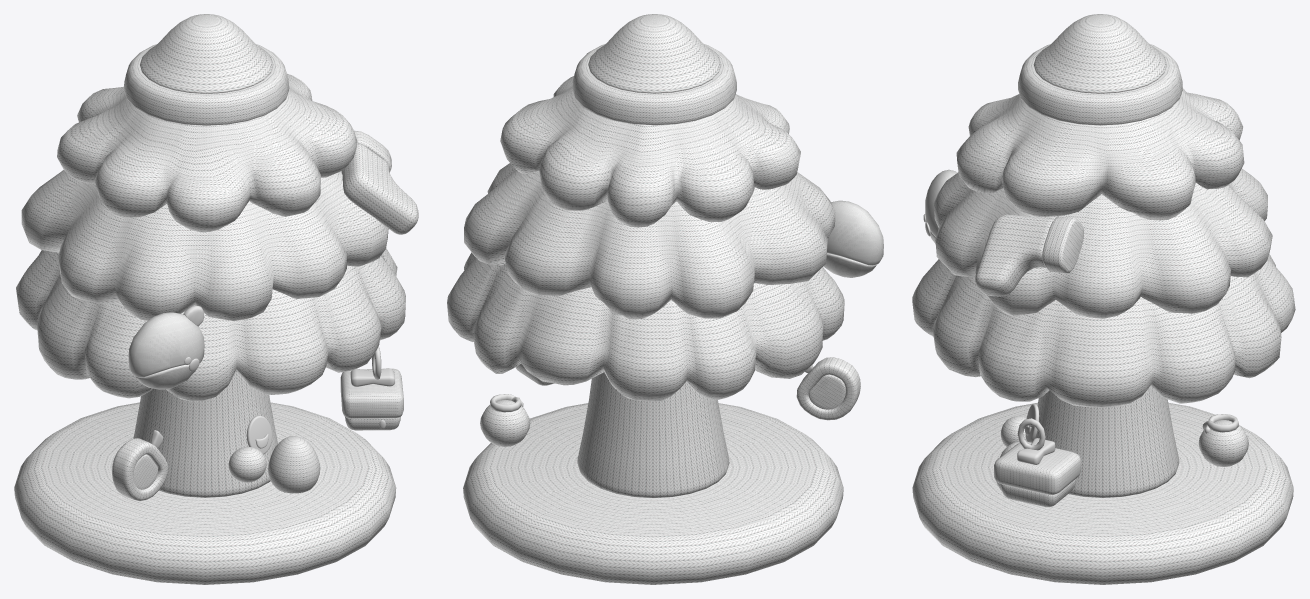
File: A_Christmastree.fbx
The picture shows the model from 3 angles, left to right: view 1: azimuth 30°, elevation 25°; view 2: azimuth 150°, elevation 25°; view 3: azimuth 270°, elevation 25°; orthographic projection.
Visible parts, largest first — view 1: A_Christmastree, Item_A_Christmastree_2, Item_A_Christmastree_5; view 2: A_Christmastree; view 3: A_Christmastree, Item_A_Christmastree_2, Item_A_Christmastree_4.
Boxes of the visible parts, box(x1,y1,x2,y2) form: A_Christmastree: box(14, 14, 418, 584); Item_A_Christmastree_2: box(350, 368, 394, 386); Item_A_Christmastree_5: box(246, 415, 272, 454); A_Christmastree: box(447, 14, 883, 584); A_Christmastree: box(912, 14, 1295, 584); Item_A_Christmastree_2: box(1017, 438, 1055, 464); Item_A_Christmastree_4: box(1202, 414, 1238, 433).
Size of the model in its own units: 0.7419 by 1.01 by 0.7116.
